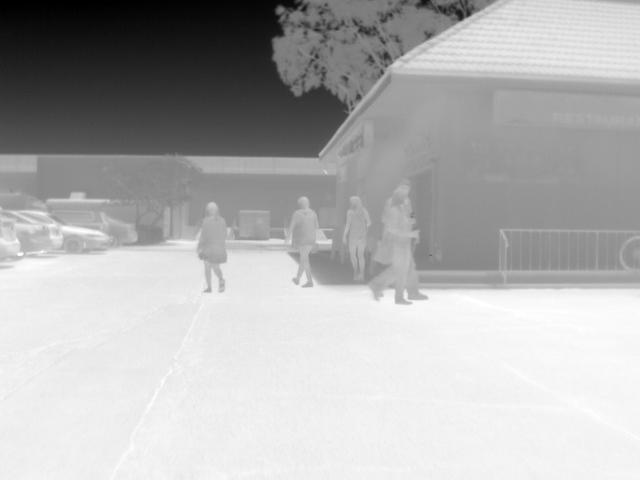car: (18, 209, 110, 253), (0, 207, 62, 252), (52, 208, 109, 234), (16, 222, 51, 256), (107, 214, 138, 246), (0, 214, 20, 262)
person: (366, 192, 420, 304), (393, 176, 431, 301), (193, 200, 230, 294), (339, 193, 374, 282), (288, 192, 321, 286)
